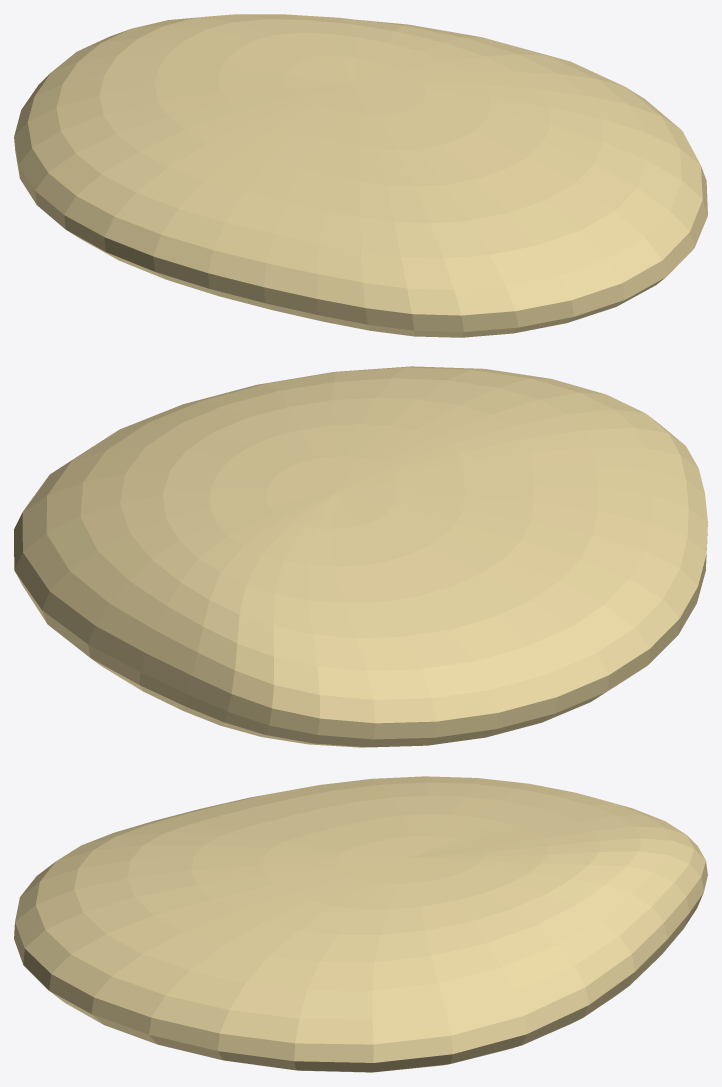
File: rawChicken_v2.fbx
3 views of the same model, one above another, from view 1: azimuth 30°, elevation 25°; view 2: azimuth 150°, elevation 25°; view 3: azimuth 270°, elevation 25° (orthographic). The views are drawn at different scales.
Parts seen in each view (by area): view 1: Sphere; view 2: Sphere; view 3: Sphere.
Boxes of the visible parts, <box> form: Sphere: <box>14,14,707,337</box>; Sphere: <box>14,366,707,747</box>; Sphere: <box>14,776,707,1072</box>.
Size of the model in its own units: 106 by 22.92 by 120.
